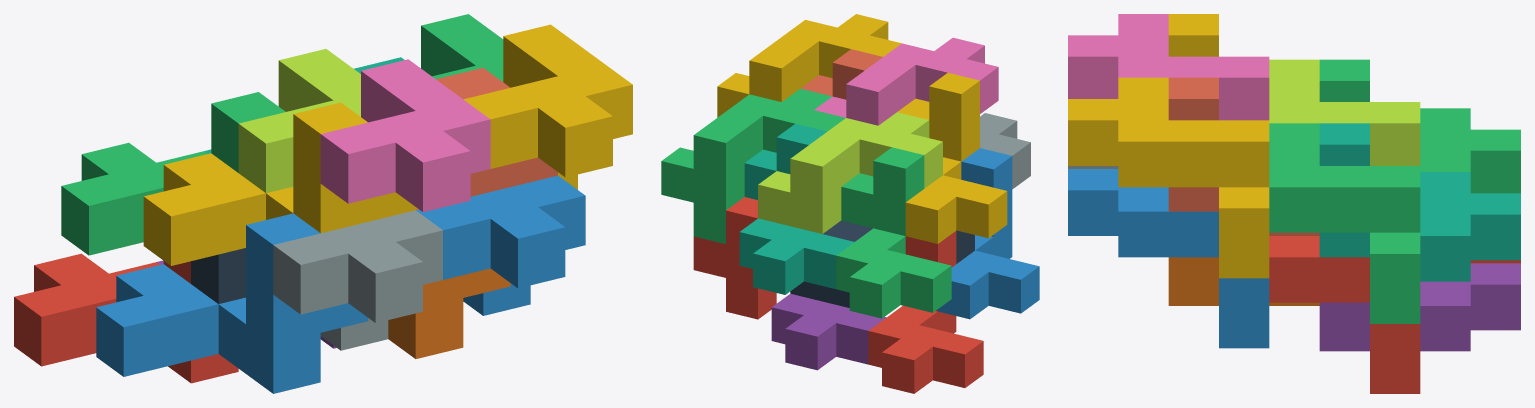
The model's file is tiling.obj.
The picture shows the model from 3 angles, left to right: view 1: azimuth 30°, elevation 25°; view 2: azimuth 150°, elevation 25°; view 3: azimuth 270°, elevation 25°; orthographic projection. The views are drawn at different scales.
Parts seen in each view (by area): view 1: copy_1_domain_2, copy_2_domain_4, copy_1_domain_4, copy_2_domain_8, copy_2_domain_2, copy_2_domain_6, copy_1_domain_3, copy_1_domain_1, copy_2_domain_3, copy_1_domain_6, copy_2_domain_7, copy_1_domain_8 (+1 smaller); view 2: copy_1_domain_3, copy_2_domain_7, copy_2_domain_3, copy_1_domain_4, copy_1_domain_1, copy_1_domain_7, copy_2_domain_4, copy_2_domain_8, copy_1_domain_2, copy_1_domain_5, copy_2_domain_5, copy_2_domain_2 (+2 smaller); view 3: copy_2_domain_8, copy_2_domain_7, copy_2_domain_6, copy_1_domain_7, copy_2_domain_4, copy_1_domain_5, copy_2_domain_5, copy_1_domain_3, copy_2_domain_3, copy_1_domain_8, copy_1_domain_6, copy_1_domain_4.
Part boxes in pixels (box(x1,y1,x2,y2)): copy_1_domain_2: box(96, 213, 368, 393); copy_2_domain_4: box(320, 59, 490, 212); copy_1_domain_4: box(143, 102, 415, 265); copy_2_domain_8: box(463, 24, 632, 189); copy_2_domain_2: box(273, 210, 442, 350); copy_2_domain_6: box(416, 175, 585, 315); copy_1_domain_3: box(61, 92, 285, 255); copy_1_domain_1: box(14, 253, 238, 383); copy_2_domain_3: box(238, 49, 360, 193); copy_1_domain_6: box(388, 207, 510, 358); copy_2_domain_7: box(421, 14, 503, 81); copy_1_domain_8: box(436, 68, 557, 196); copy_1_domain_3: box(836, 147, 951, 318); copy_2_domain_7: box(661, 88, 845, 243); copy_2_domain_3: box(758, 112, 942, 233); copy_1_domain_4: box(897, 73, 1007, 243); copy_1_domain_1: box(868, 231, 983, 393); copy_1_domain_7: box(739, 123, 854, 294); copy_2_domain_4: box(814, 37, 998, 125); copy_2_domain_8: box(717, 14, 901, 117); copy_1_domain_2: box(938, 148, 1039, 319); copy_1_domain_5: box(771, 293, 886, 370); copy_2_domain_5: box(693, 197, 776, 319); copy_2_domain_2: box(980, 113, 1030, 189); copy_2_domain_8: box(1068, 77, 1269, 278); copy_2_domain_7: box(1269, 123, 1420, 323); copy_2_domain_6: box(1068, 169, 1269, 348); copy_1_domain_7: box(1319, 123, 1520, 281); copy_2_domain_4: box(1068, 14, 1269, 120); copy_1_domain_5: box(1319, 263, 1520, 351); copy_2_domain_5: box(1269, 236, 1420, 393); copy_1_domain_3: box(1319, 59, 1520, 193); copy_2_domain_3: box(1269, 59, 1420, 165); copy_1_domain_8: box(1168, 77, 1319, 235); copy_1_domain_6: box(1168, 257, 1319, 305); copy_1_domain_4: box(1168, 14, 1218, 56).
Size of the model in its own units: 10 by 6 by 9.
